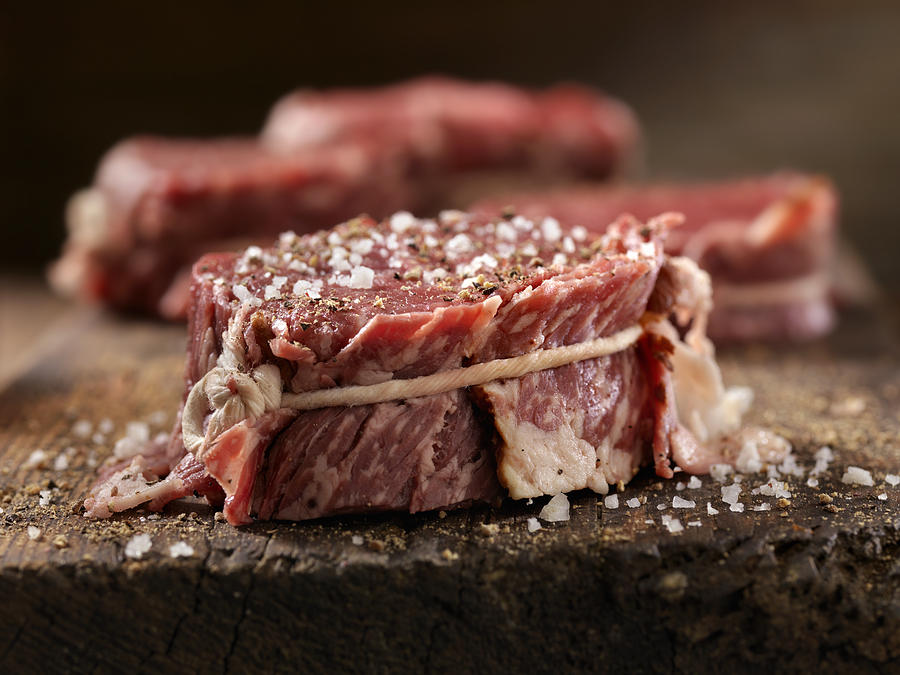bacon: (130, 204, 754, 526), (125, 99, 766, 261)
